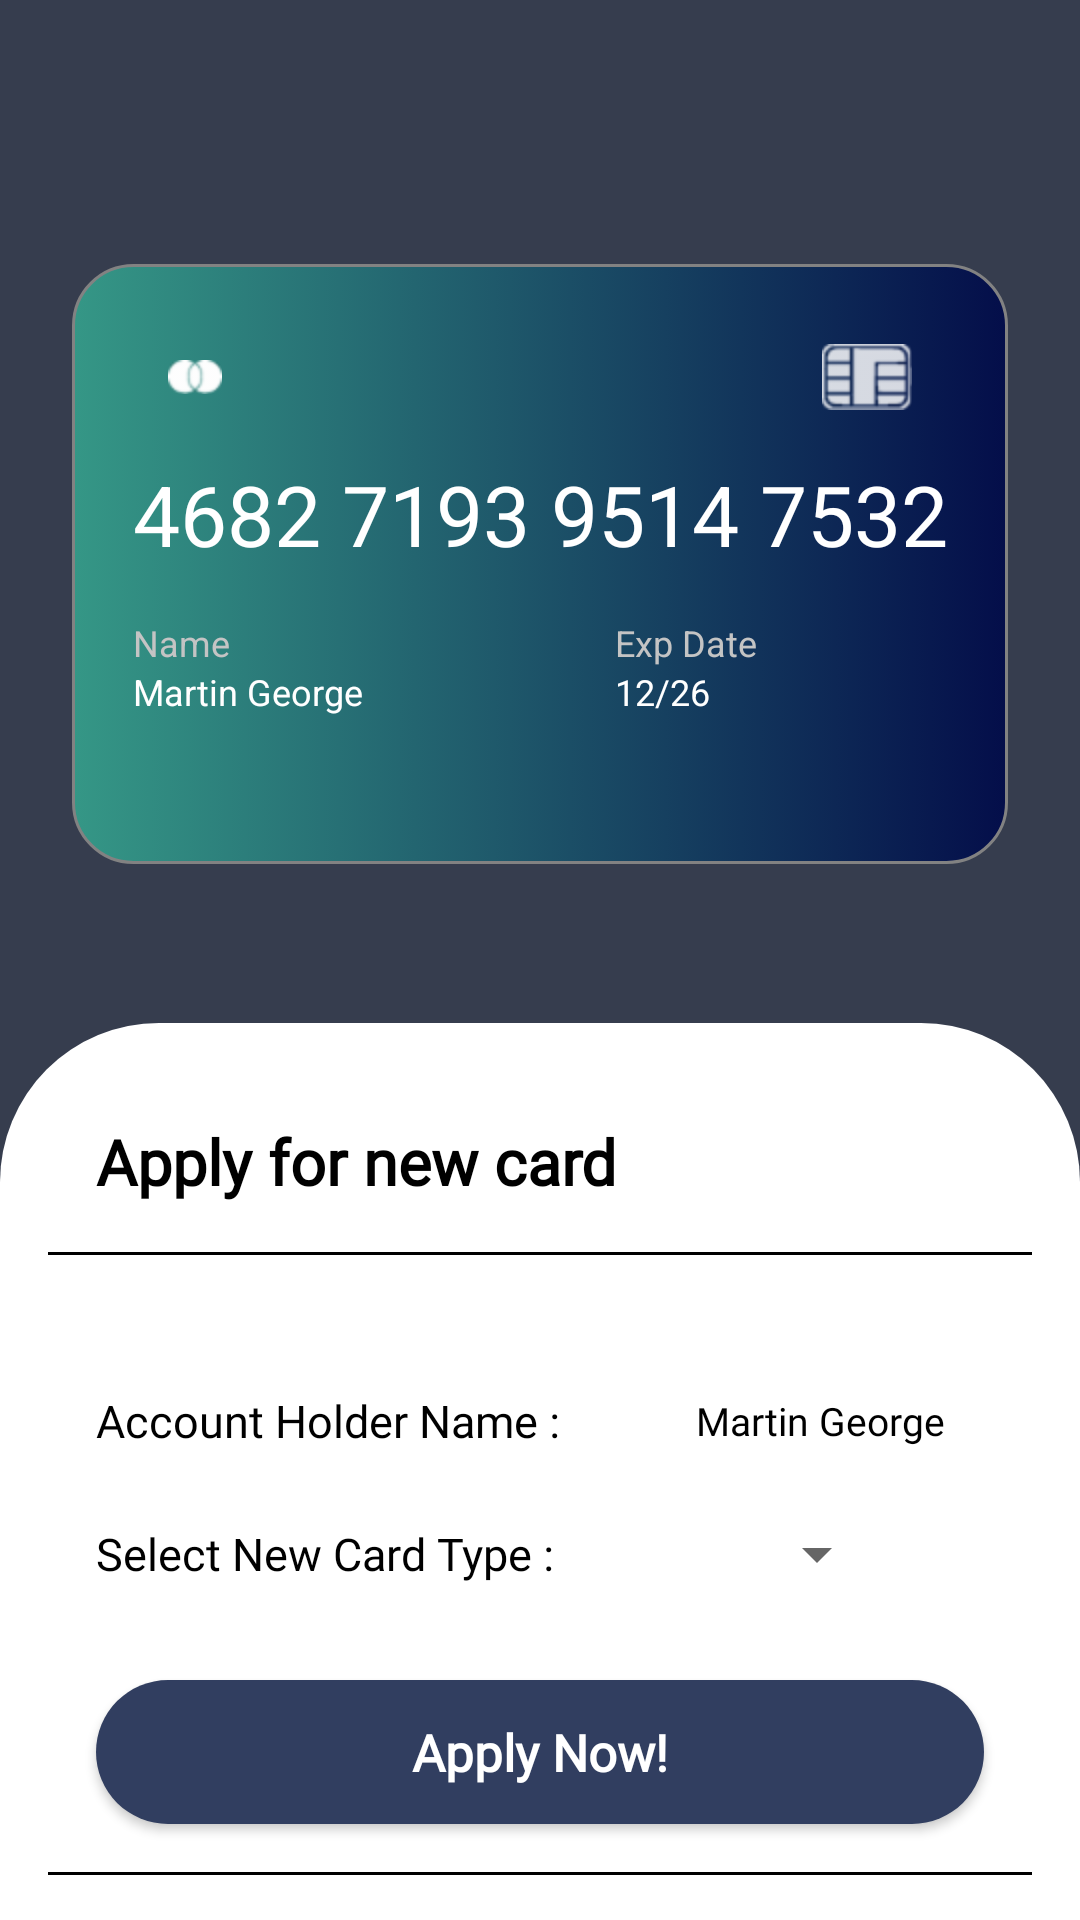

Named icons in this screenshot (1080*1920) and their bounding boxes, (x1, y1, x2, y2):
sim: (822, 344, 912, 410)
